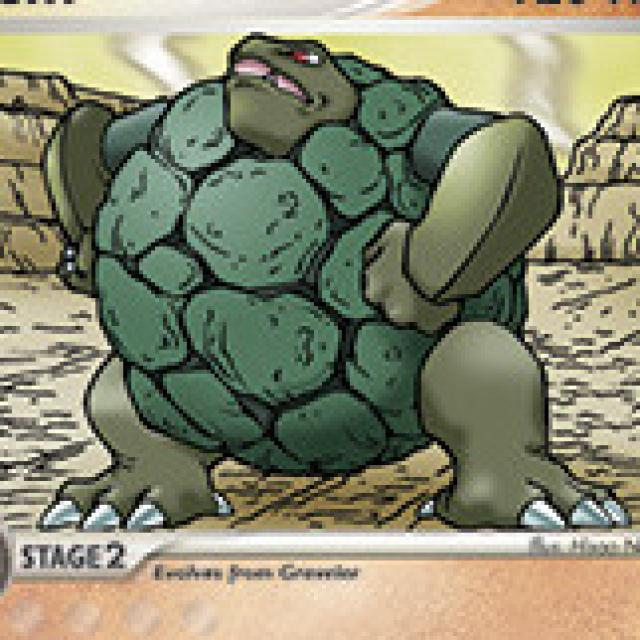Golem: (24, 30, 637, 533)
